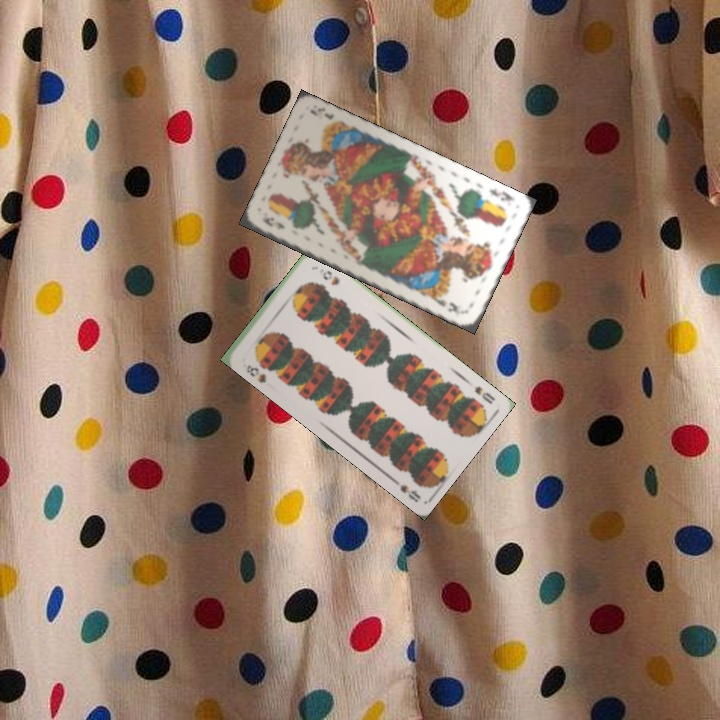EK: (485, 184, 517, 204), (258, 213, 288, 232)
S8: (470, 382, 498, 407), (242, 361, 269, 386)
